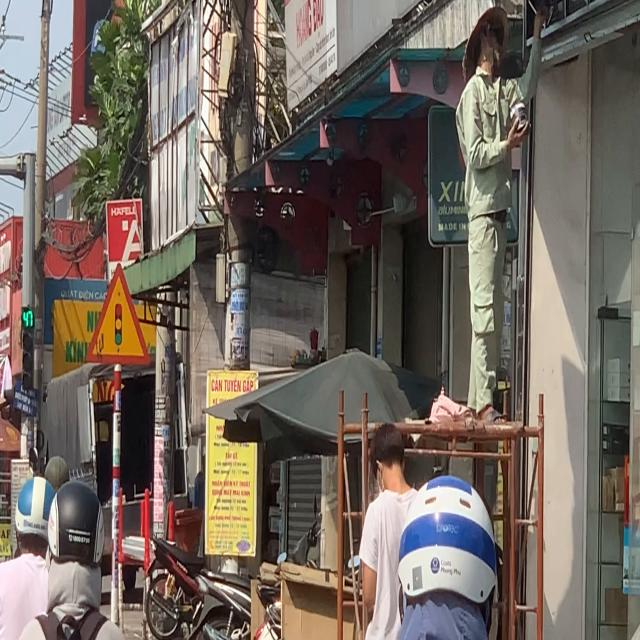Nguy hiem: (83, 256, 153, 369)
